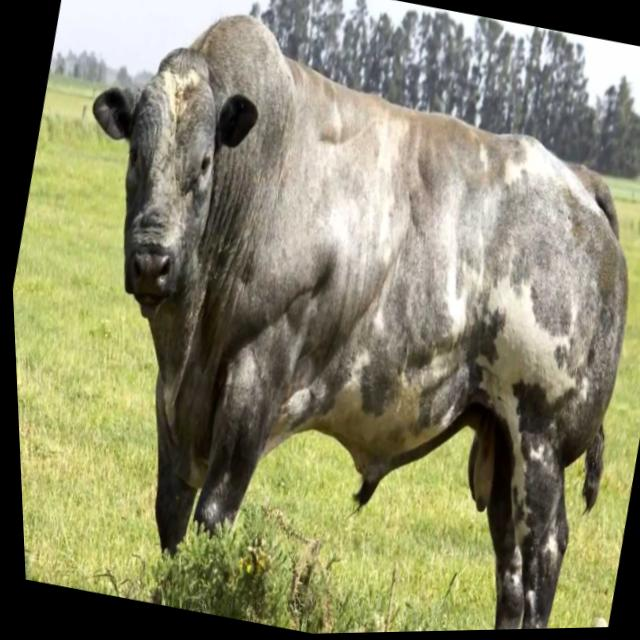cowFace: (90, 5, 290, 333)
